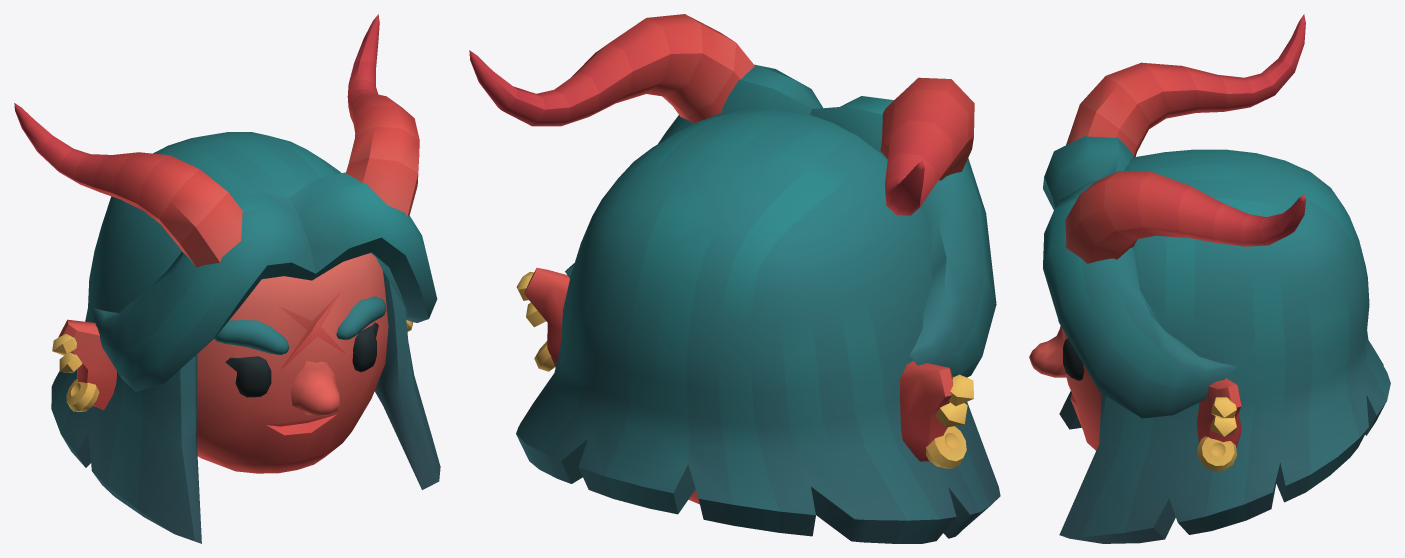
Rendered from tiefling_head.glb.
The picture shows the model from 3 angles, left to right: view 1: azimuth 30°, elevation 25°; view 2: azimuth 150°, elevation 25°; view 3: azimuth 270°, elevation 25°; orthographic projection. The views are drawn at different scales.
Parts seen in each view (by area): view 1: Tiefling_Head; view 2: Tiefling_Head; view 3: Tiefling_Head.
Part boxes in pixels (left/top/right/bottom): Tiefling_Head: left=14, top=14, right=440, bottom=543; Tiefling_Head: left=469, top=14, right=1000, bottom=543; Tiefling_Head: left=1029, top=14, right=1390, bottom=543.
Bounding box in the file's own units: 1.24 × 1.2 × 1.04.
1 material, 1 textured.
